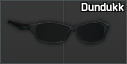Dundukk sport sunglasses: (0, 0, 127, 64)
